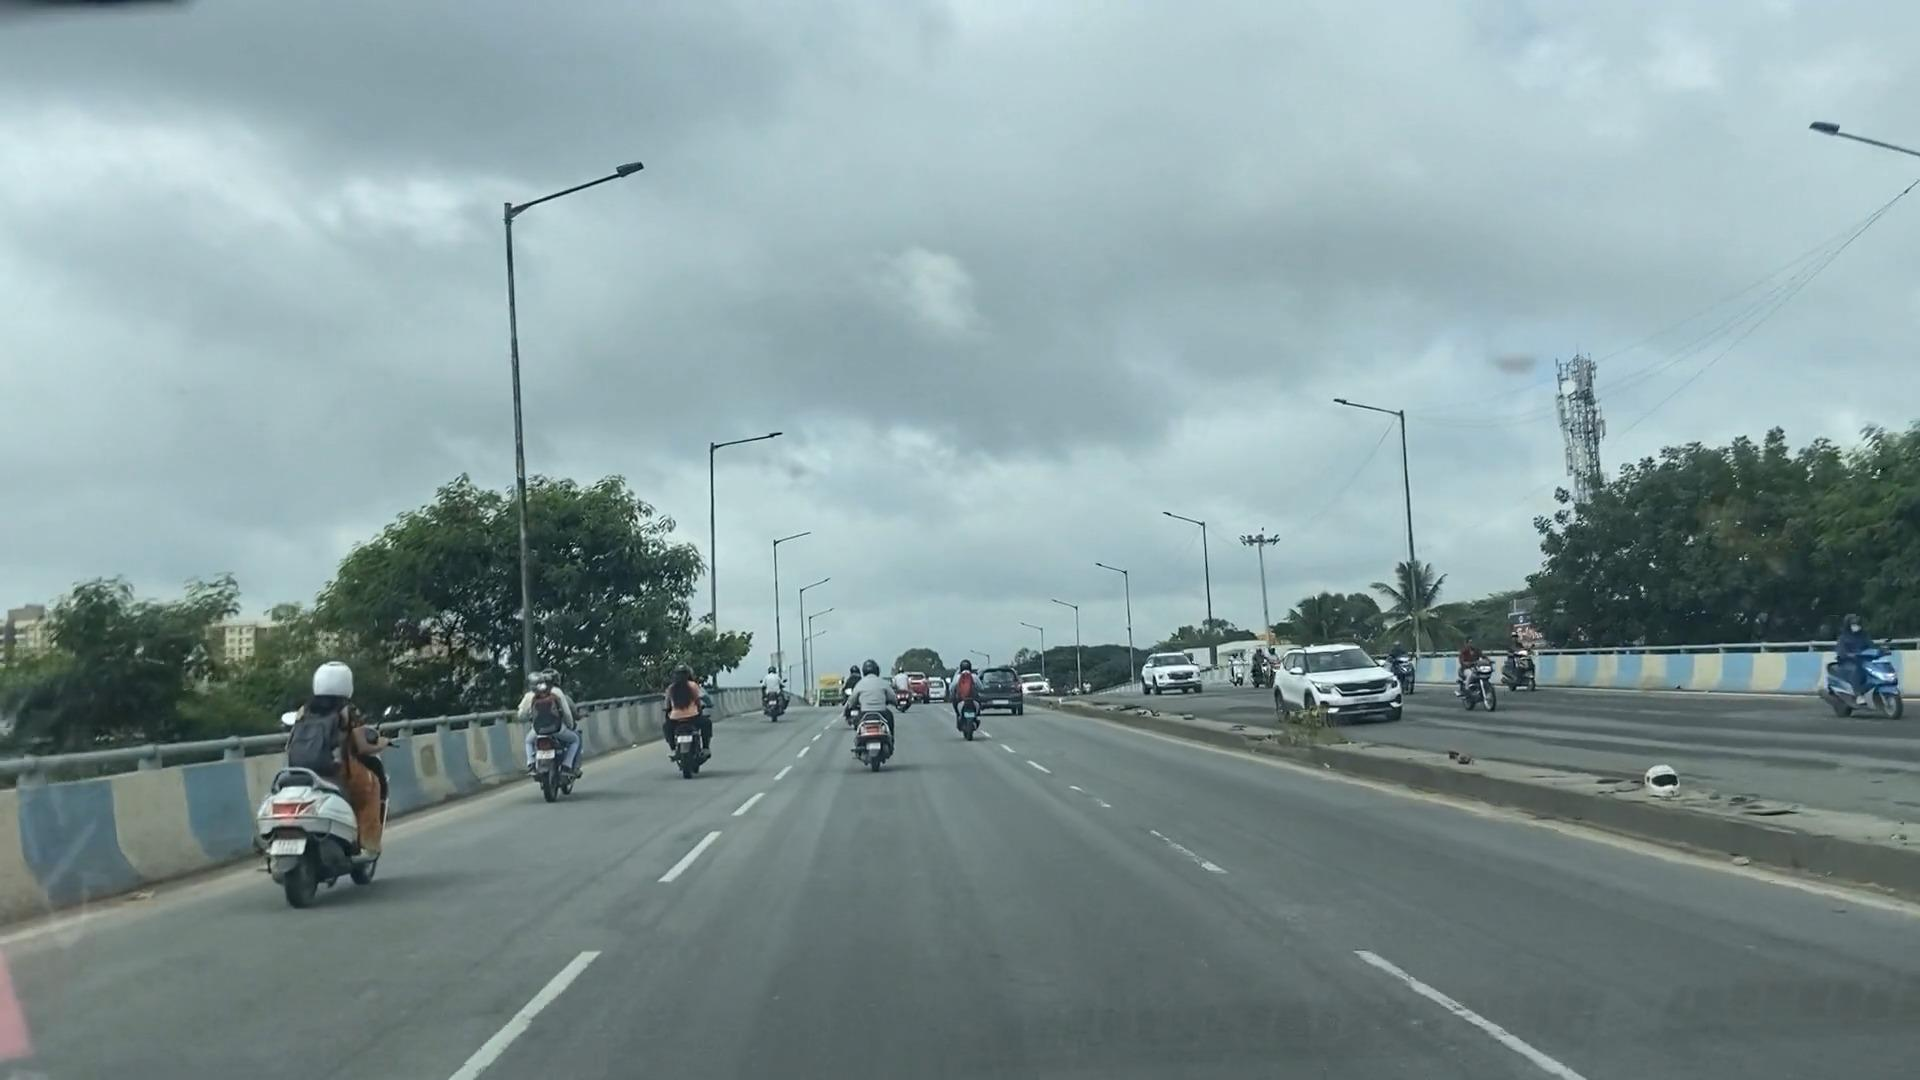LMV: (278, 644, 381, 901), (524, 666, 585, 791), (843, 654, 905, 778), (662, 666, 717, 786), (940, 665, 982, 741), (988, 665, 1018, 724)
